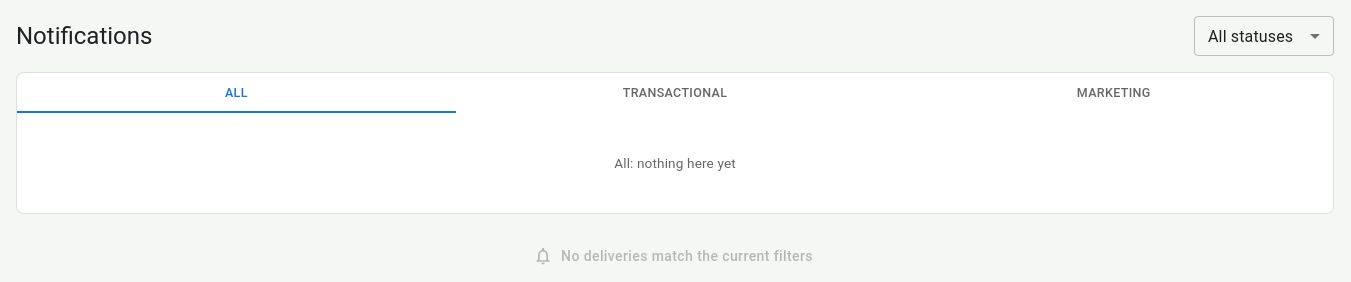
Test: NotificationsPage › shows an empty message for the active tab when nothing matches
The width and height of the screenshot is (1351, 282).
Click the tab "Marketing".
click(1114, 93)  # box [894,73,1333,113]
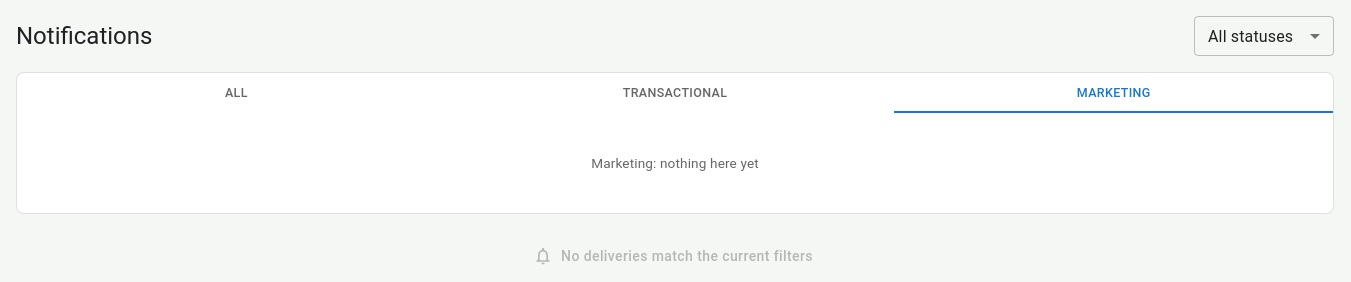
Now the text "Marketing: nothing here yet" is shown, box [591,155,759,171]
